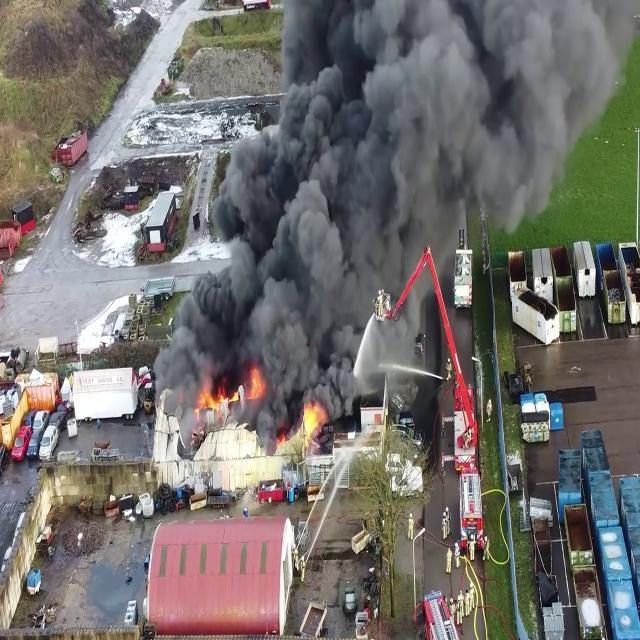Fire: (194, 387, 230, 425), (300, 394, 328, 442), (245, 363, 266, 402)
Smoke: (159, 0, 613, 404)
